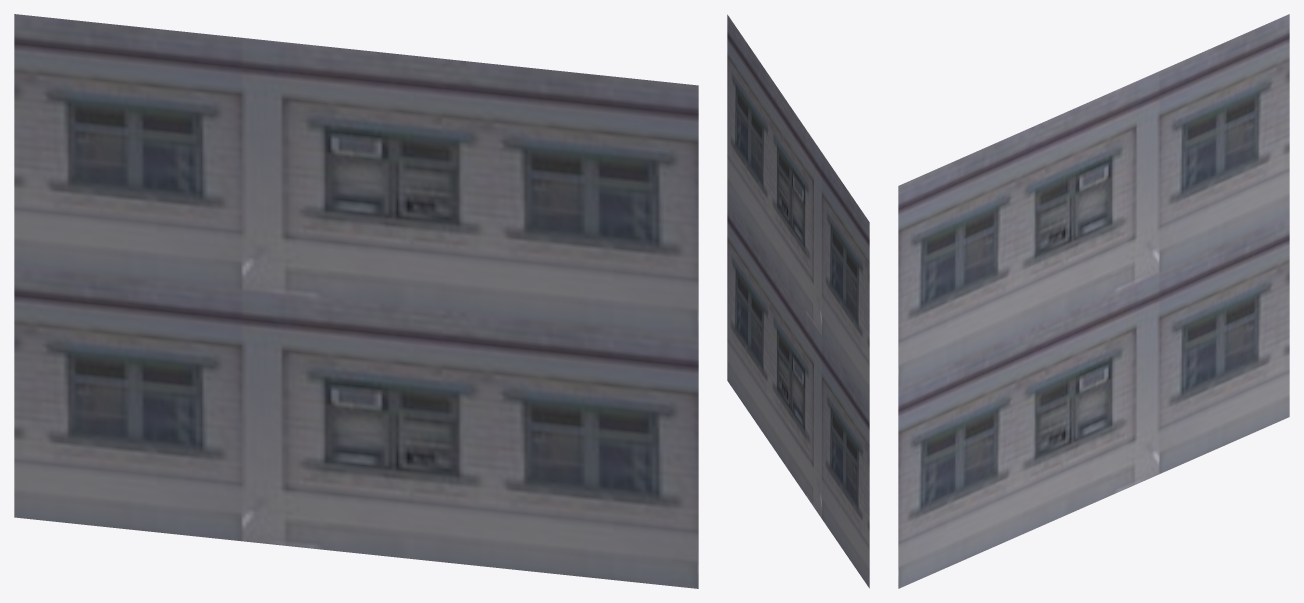
Rendered from ResTex__1361.fbx.
3 views of the same model, side by side, from view 1: azimuth 30°, elevation 25°; view 2: azimuth 150°, elevation 25°; view 3: azimuth 270°, elevation 25° (orthographic). The views are drawn at different scales.
Visible parts, largest first — view 1: CityEngineMaterial_1_m; view 2: CityEngineMaterial_1_m; view 3: CityEngineMaterial_1_m.
Boxes of the visible parts, x1,y1,x2,y2 form: CityEngineMaterial_1_m: (14,14,698,588); CityEngineMaterial_1_m: (727,14,869,588); CityEngineMaterial_1_m: (898,14,1289,588).
Size of the model in its own units: 5.49 by 6 by 5.28.
Materials: 1 (1 with a texture image).
